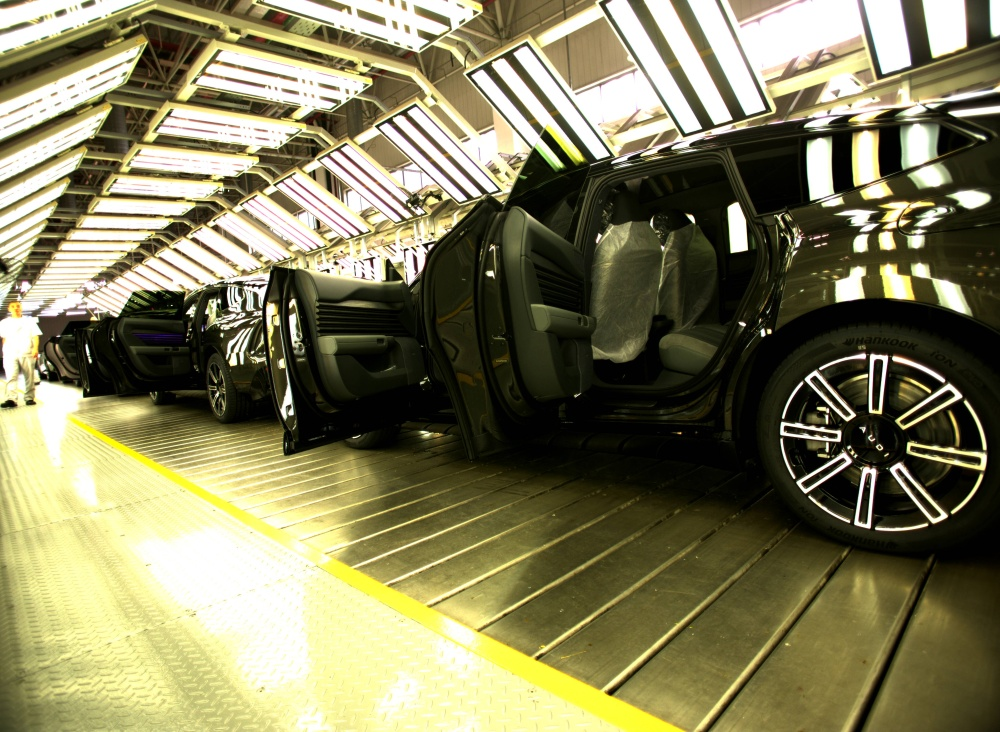armrest_color: (528, 302, 599, 337), (317, 333, 404, 353)
panel_color: (314, 298, 405, 333), (532, 261, 589, 315)
